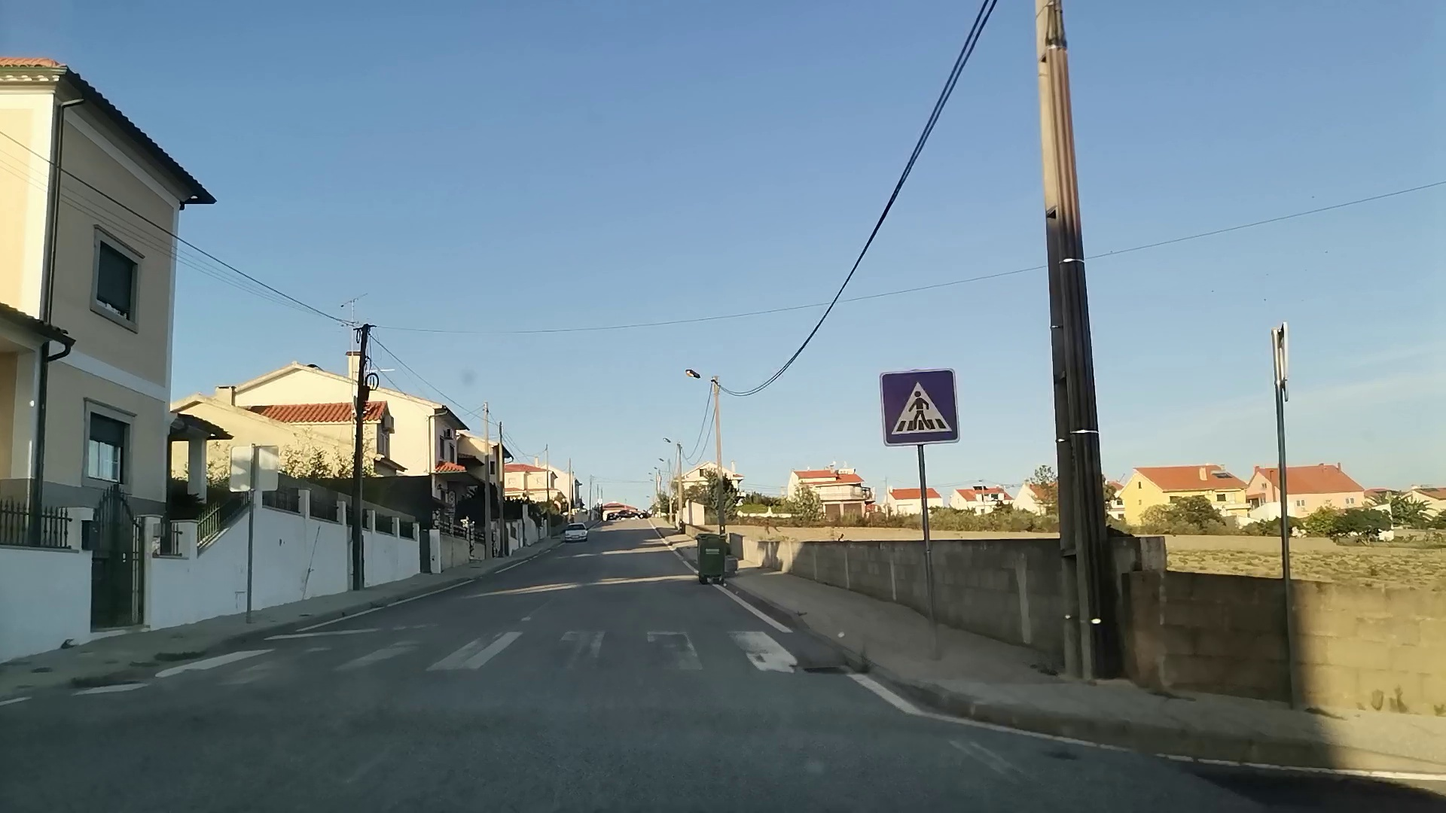Stairs: (215, 622, 825, 697)
